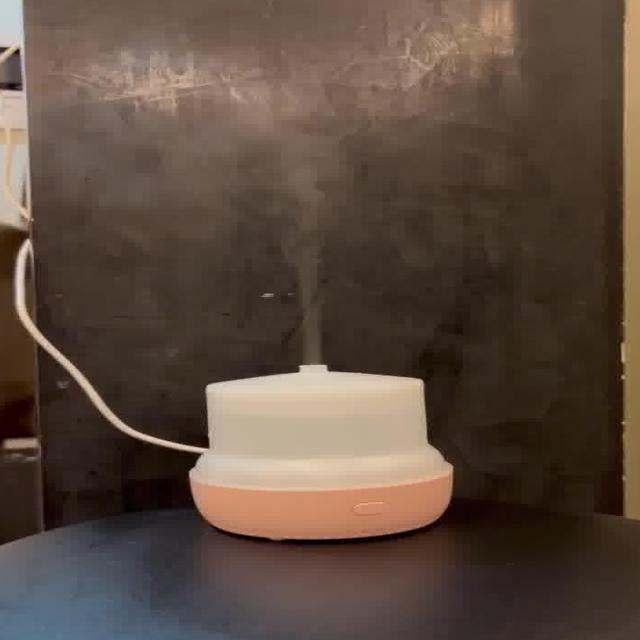fire: (218, 91, 344, 362)
